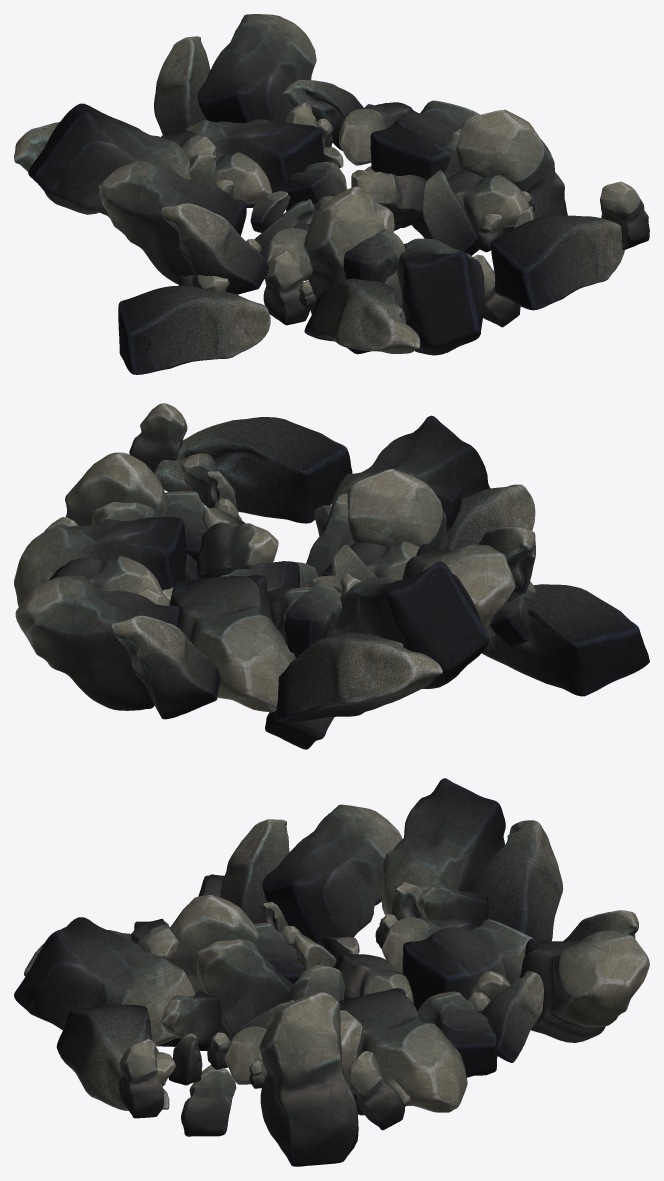
File: rock_C.fbx
The picture shows the model from 3 angles, top to bottom: view 1: azimuth 30°, elevation 25°; view 2: azimuth 150°, elevation 25°; view 3: azimuth 270°, elevation 25°; orthographic projection. The views are drawn at different scales.
Visible parts, largest first — view 1: DecorRocks_LowPoly_C__36_, DecorRocks_LowPoly_C__36_.001, DecorRocks_LowPoly_B__36_, DecorRocks_LowPoly_B__31_, DecorRocks_LowPoly_B__36_.001, DecorRocks_LowPoly_B__31_.001, DecorRocks_LowPoly_B__116__1.001, DecorRocks_LowPoly_C__34_.001, DecorRocks_LowPoly_C__35_.001, DecorRocks_LowPoly_B__116_.001, DecorRocks_LowPoly_B__116__1, DecorRocks_LowPoly_B__116_ (+22 smaller); view 2: DecorRocks_LowPoly_C__36_.001, DecorRocks_LowPoly_B__36_, DecorRocks_LowPoly_C__36_, DecorRocks_LowPoly_B__116_.001, DecorRocks_LowPoly_B__31_, DecorRocks_LowPoly_C__34_, DecorRocks_LowPoly_B__116_, DecorRocks_LowPoly_C__35_, DecorRocks_LowPoly_B__116__1, DecorRocks_LowPoly_B__31_.001, DecorRocks_LowPoly_B__116__1.001, DecorRocks_LowPoly_B__36_.001 (+19 smaller); view 3: DecorRocks_LowPoly_B__116__1.001, DecorRocks_LowPoly_B__36_.001, DecorRocks_LowPoly_B__31_.001, DecorRocks_LowPoly_B__36_, DecorRocks_LowPoly_B__31_, DecorRocks_LowPoly_B__116_, DecorRocks_LowPoly_C__34_, DecorRocks_LowPoly_B__116_.001, DecorRocks_LowPoly_C__36_.001, DecorRocks_LowPoly_B__28_, DecorRocks_LowPoly_B__116__1, DecorRocks_LowPoly_C__35_.001 (+21 smaller).
Part boxes in pixels (bbox=[...]): DecorRocks_LowPoly_C__36_: bbox=[118, 285, 270, 374]; DecorRocks_LowPoly_C__36_.001: bbox=[490, 215, 624, 310]; DecorRocks_LowPoly_B__36_: bbox=[197, 14, 316, 123]; DecorRocks_LowPoly_B__31_: bbox=[28, 103, 191, 217]; DecorRocks_LowPoly_B__36_.001: bbox=[99, 160, 246, 284]; DecorRocks_LowPoly_B__31_.001: bbox=[397, 238, 484, 355]; DecorRocks_LowPoly_B__116__1.001: bbox=[456, 109, 567, 235]; DecorRocks_LowPoly_C__34_.001: bbox=[304, 278, 420, 353]; DecorRocks_LowPoly_C__35_.001: bbox=[161, 203, 269, 294]; DecorRocks_LowPoly_B__116_.001: bbox=[185, 119, 324, 207]; DecorRocks_LowPoly_B__116__1: bbox=[304, 186, 402, 354]; DecorRocks_LowPoly_B__116_: bbox=[370, 100, 479, 180]; DecorRocks_LowPoly_C__36_.001: bbox=[154, 417, 352, 523]; DecorRocks_LowPoly_B__36_: bbox=[15, 575, 180, 710]; DecorRocks_LowPoly_C__36_: bbox=[481, 584, 649, 696]; DecorRocks_LowPoly_B__116_.001: bbox=[169, 575, 295, 712]; DecorRocks_LowPoly_B__31_: bbox=[335, 561, 489, 688]; DecorRocks_LowPoly_C__34_: bbox=[276, 632, 442, 722]; DecorRocks_LowPoly_B__116_: bbox=[14, 517, 186, 606]; DecorRocks_LowPoly_C__35_: bbox=[111, 615, 220, 719]; DecorRocks_LowPoly_B__116__1: bbox=[347, 468, 447, 549]; DecorRocks_LowPoly_B__31_.001: bbox=[331, 415, 489, 505]; DecorRocks_LowPoly_B__116__1.001: bbox=[65, 452, 168, 525]; DecorRocks_LowPoly_B__36_.001: bbox=[402, 544, 515, 631]; DecorRocks_LowPoly_B__116__1.001: bbox=[259, 992, 358, 1166]; DecorRocks_LowPoly_B__36_.001: bbox=[262, 804, 402, 947]; DecorRocks_LowPoly_B__31_.001: bbox=[14, 917, 195, 1046]; DecorRocks_LowPoly_B__36_: bbox=[520, 930, 649, 1042]; DecorRocks_LowPoly_B__31_: bbox=[381, 778, 505, 915]; DecorRocks_LowPoly_B__116_: bbox=[338, 988, 467, 1112]; DecorRocks_LowPoly_C__34_: bbox=[470, 820, 563, 941]; DecorRocks_LowPoly_B__116_.001: bbox=[402, 919, 533, 1010]; DecorRocks_LowPoly_C__36_.001: bbox=[56, 1004, 169, 1110]; DecorRocks_LowPoly_B__28_: bbox=[196, 939, 293, 1034]; DecorRocks_LowPoly_B__116__1: bbox=[157, 895, 260, 1050]; DecorRocks_LowPoly_C__35_.001: bbox=[220, 819, 289, 923].
Size of the model in its own units: 140 by 54.22 by 151.
